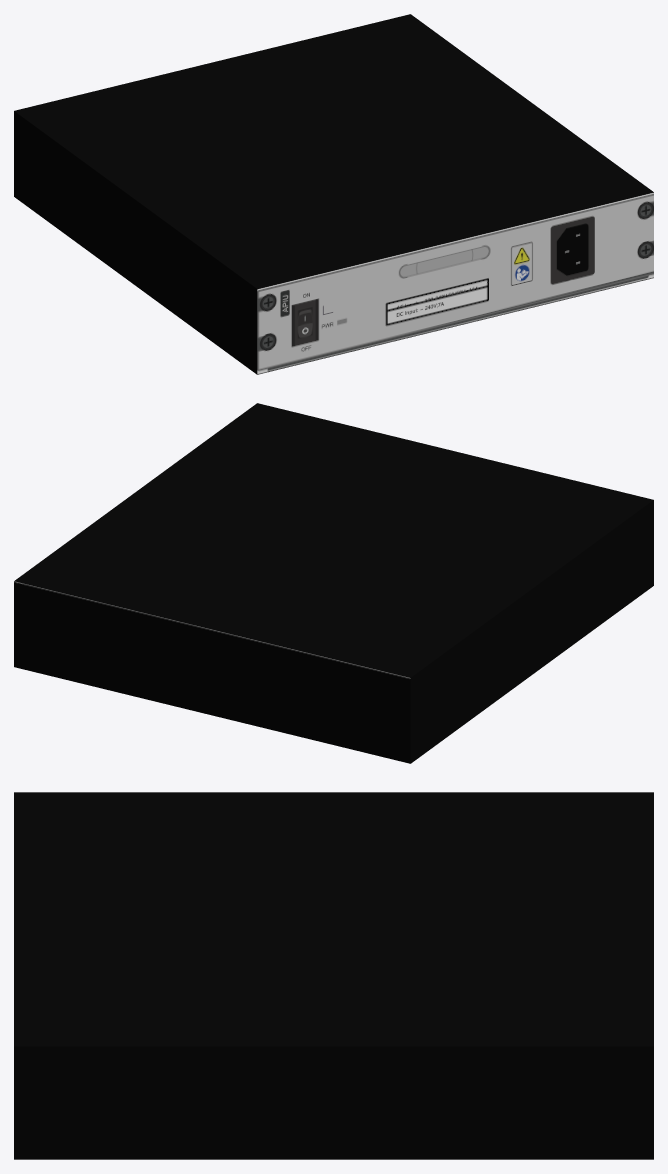
File: huawei-tnf5apiu.2048.fbx
3 renders of one model, top to bottom at view 1: azimuth 30°, elevation 25°; view 2: azimuth 150°, elevation 25°; view 3: azimuth 270°, elevation 25°, orthographic. The views are drawn at different scales.
Parts seen in each view (by area): view 1: huawei-tnf5apiu.json; view 2: huawei-tnf5apiu.json; view 3: huawei-tnf5apiu.json.
Boxes of the visible parts, x1=… form: huawei-tnf5apiu.json: x1=14, y1=14, x2=653, y2=374; huawei-tnf5apiu.json: x1=14, y1=403, x2=653, y2=763; huawei-tnf5apiu.json: x1=14, y1=792, x2=653, y2=1159.
Bounding box in the file's own units: 0.1938 × 0.0401 × 0.2059.
Materials: 1 (1 with a texture image).
